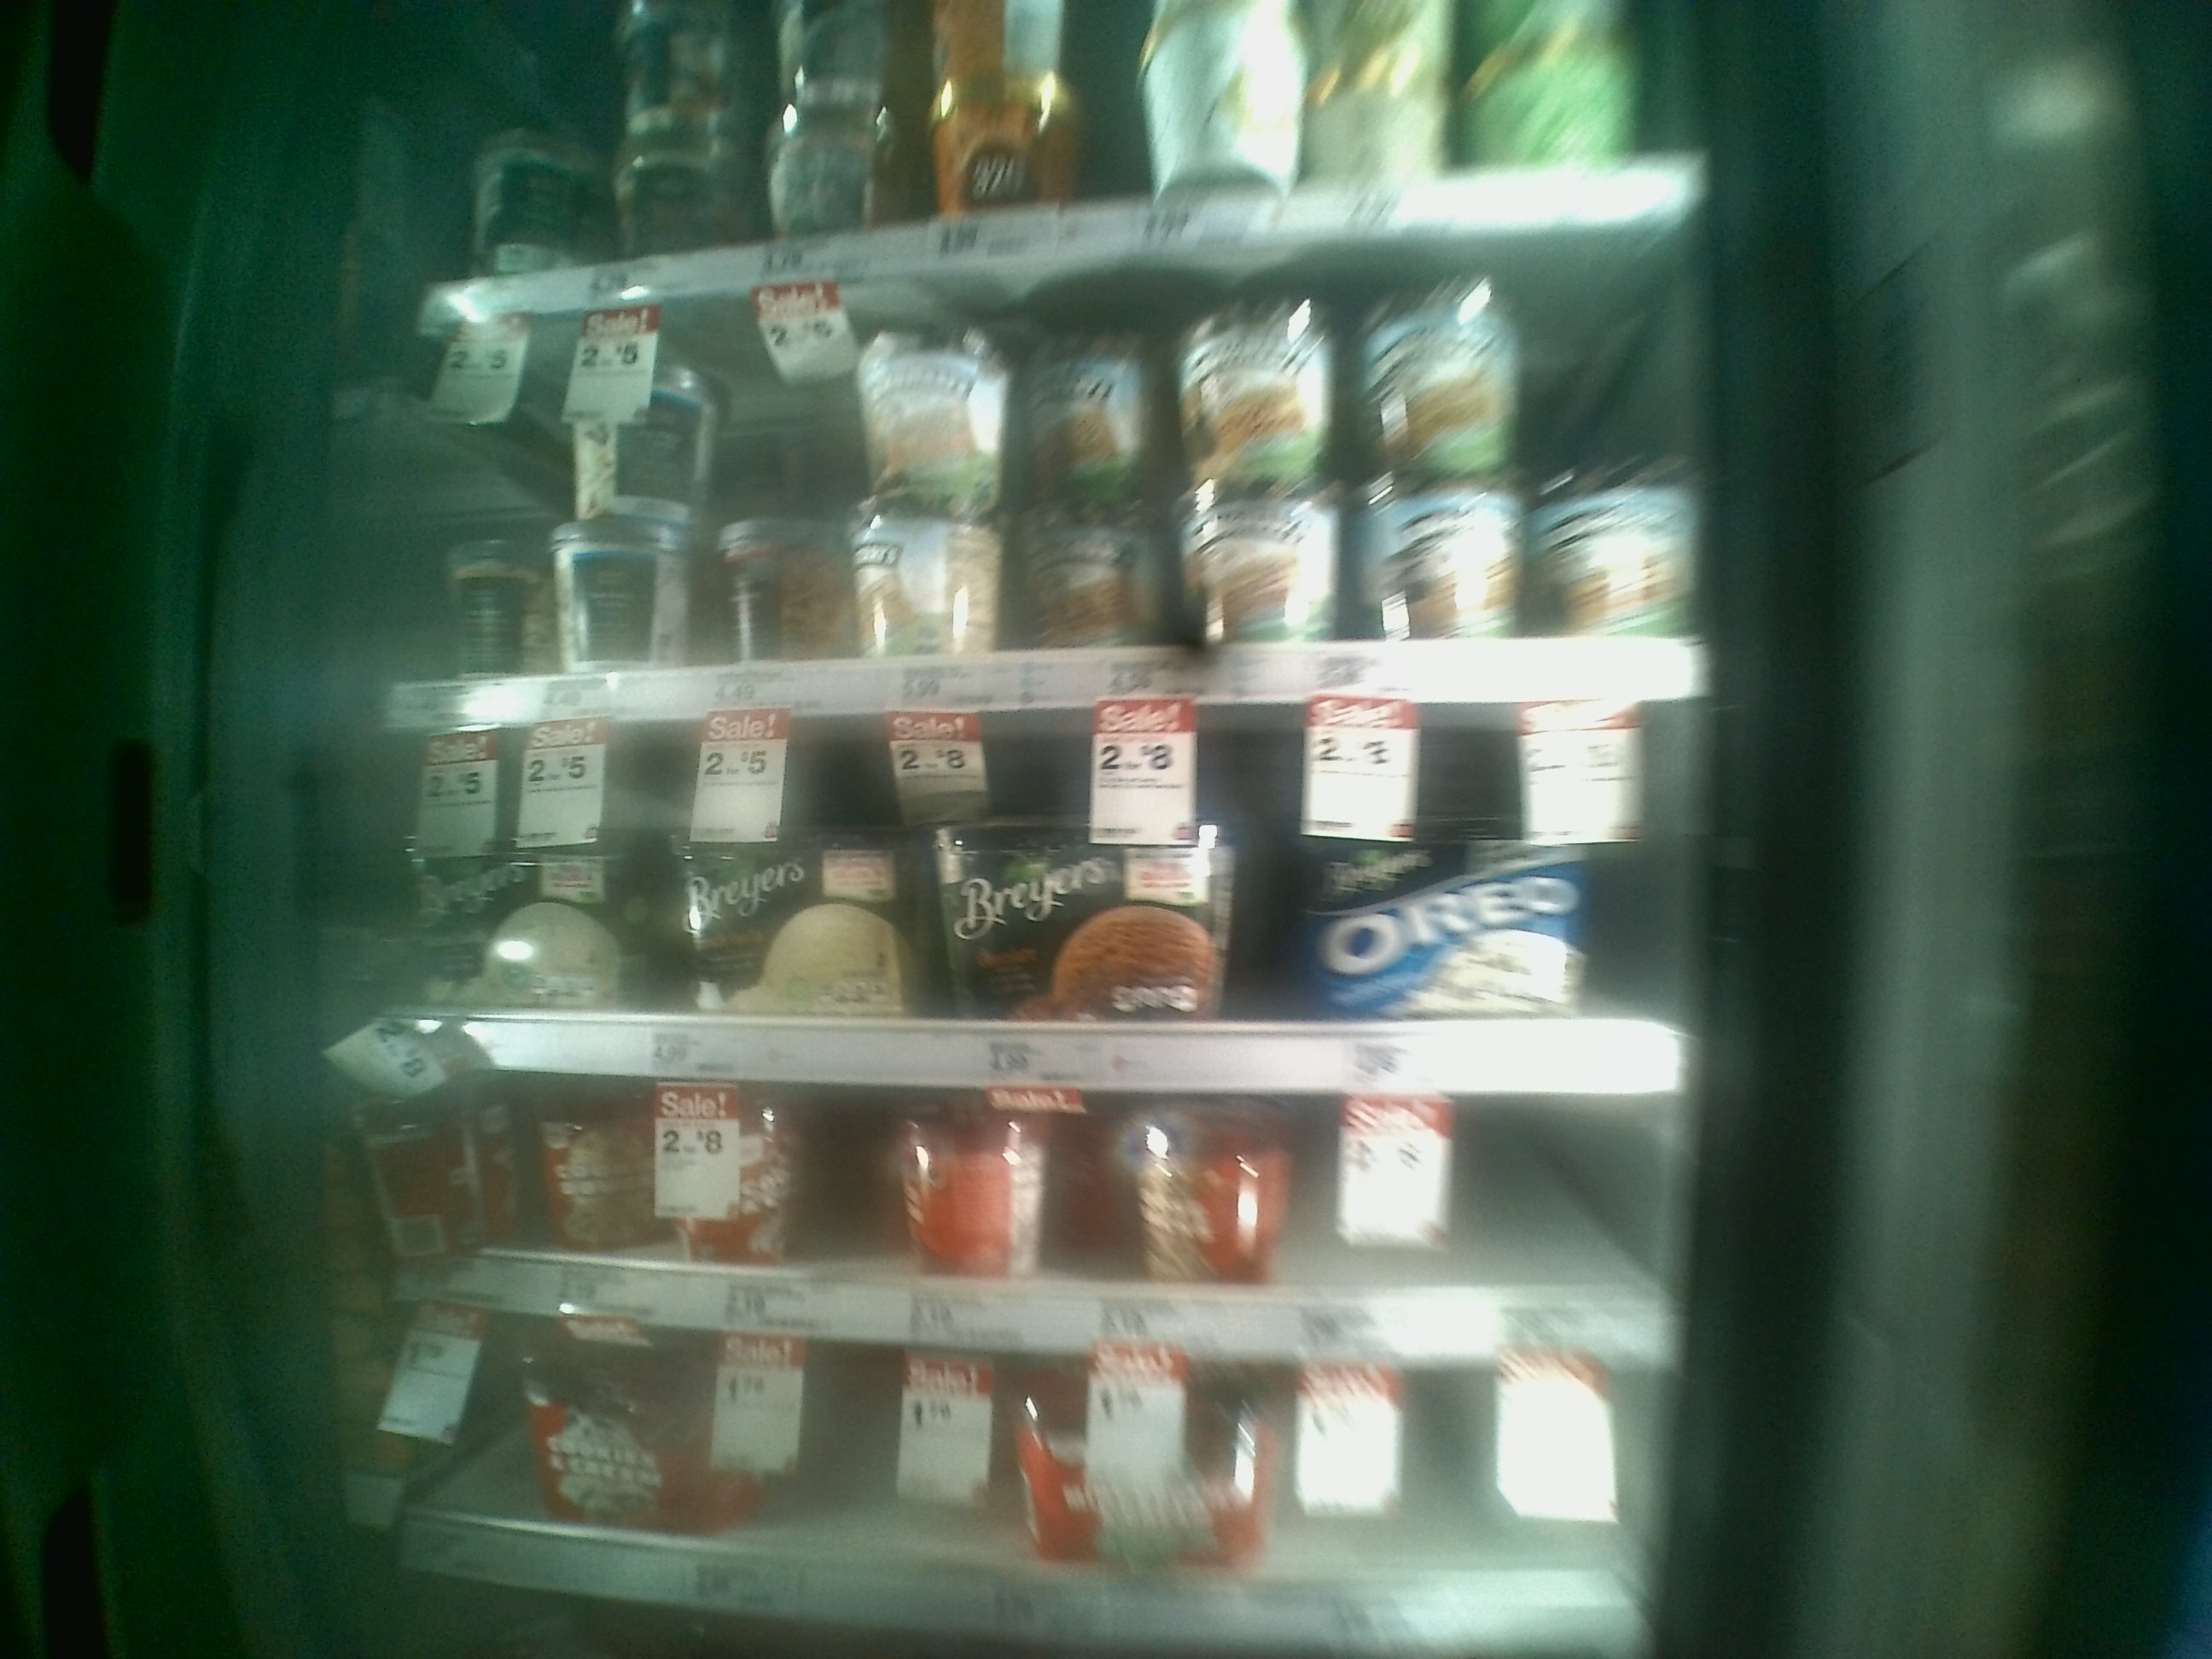shelf: (387, 202, 1716, 699), (388, 702, 1714, 1100), (395, 1063, 1695, 1359)
